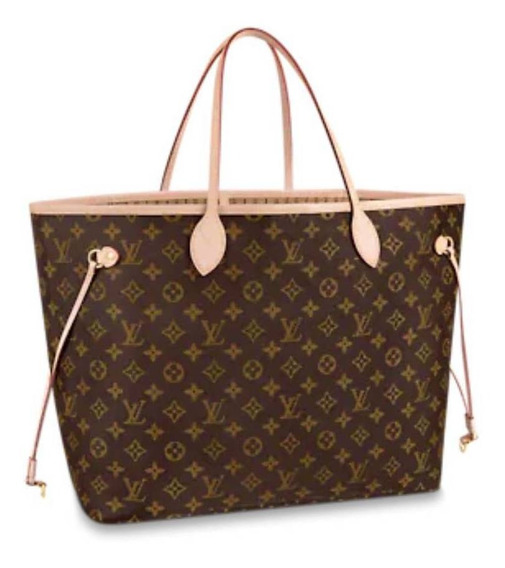cartera: (29, 25, 467, 525)
